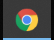chrome: (15, 8, 39, 31)
